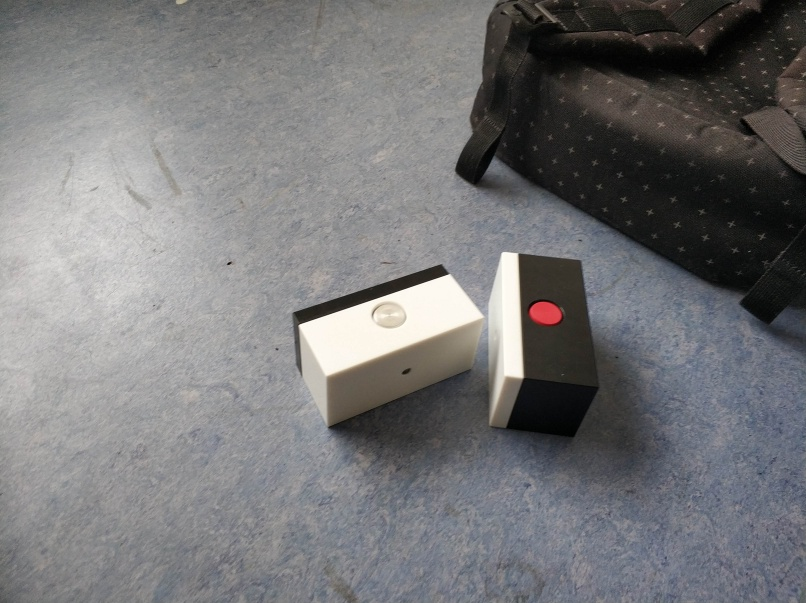black+white+silver: (289, 261, 484, 432)
white+black+red: (487, 249, 607, 433)
